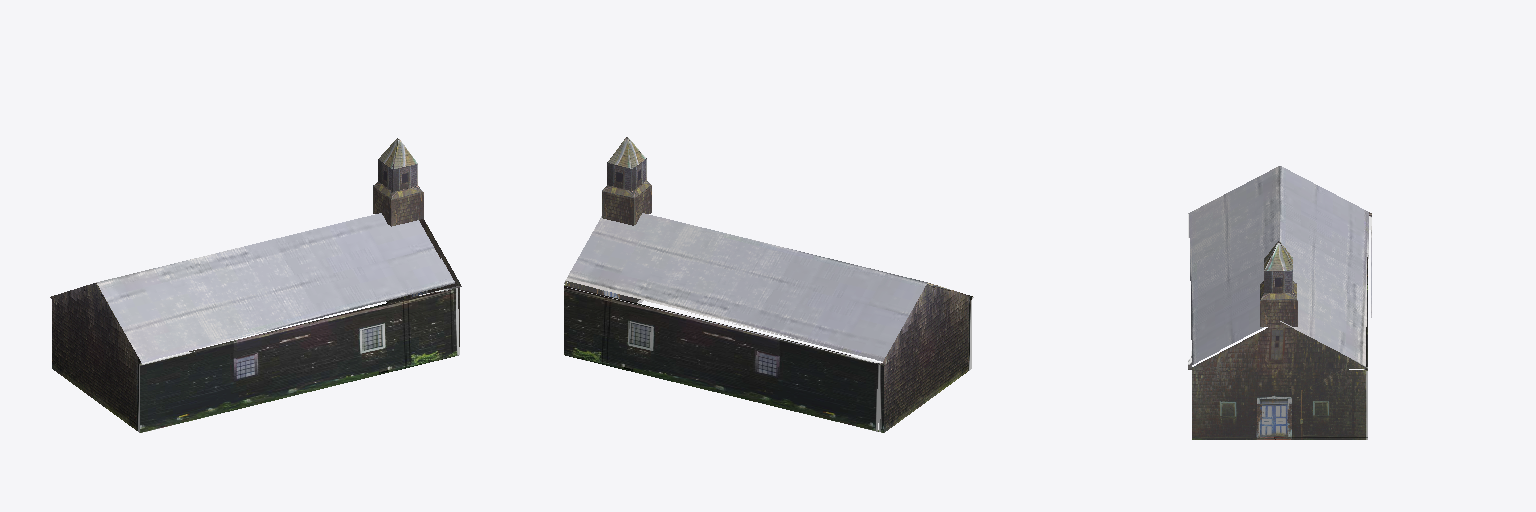
3 views of the same model, side by side, from view 1: azimuth 30°, elevation 25°; view 2: azimuth 150°, elevation 25°; view 3: azimuth 270°, elevation 25° (orthographic).
Visible parts, largest first — view 1: Cube, Cube.001; view 2: Cube, Cube.001; view 3: Cube, Cube.001.
Boxes of the visible parts, x1=… form: Cube: x1=50, y1=213, x2=461, y2=432; Cube.001: x1=373, y1=138, x2=423, y2=226; Cube: x1=564, y1=213, x2=973, y2=432; Cube.001: x1=602, y1=137, x2=651, y2=225; Cube: x1=1188, y1=166, x2=1371, y2=439; Cube.001: x1=1260, y1=241, x2=1297, y2=326.
Size of the model in its own units: 24.8 by 15.76 by 12.39.
Materials: 3 (2 with a texture image).